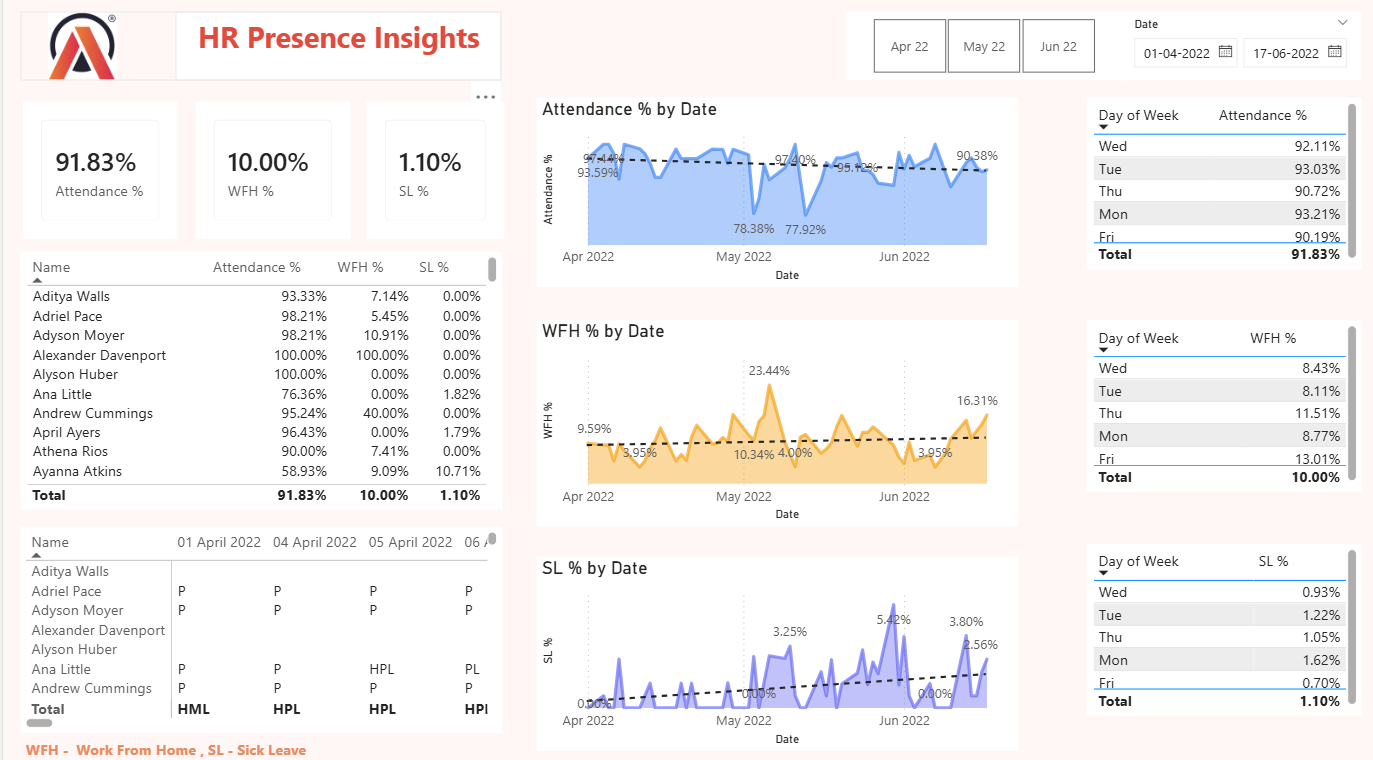

The dashboard page shown, as its layout file describes it:
{"tool":"powerbi","page":{"name":"Page 1","canvas":[1280,720],"ordinal":0},"visuals":[{"type":"slicer","fields":{"Values":["Final Data.Month"]},"box":[784,16,256,64],"z":0,"group":"g4"},{"type":"tableEx","fields":{"Values":["Final Data.Day of Week","Measures (2).Presence %"]},"box":[1008,96,256,160],"z":0},{"type":"cardVisual","fields":{"Data":["Measures (2).Presence %"]},"box":[18.1,100.5,144,128],"z":0,"group":"g2"},{"type":"slicer","fields":{"Values":["Final Data.Date"]},"box":[1040,16,224,64],"z":1000,"group":"g4"},{"type":"tableEx","fields":{"Values":["Final Data.Day of Week","Measures (2).WFH %"]},"box":[1008,304,256,160],"z":1000},{"type":"group","id":"g1","title":"Group 1","box":[16,16,448,64],"z":2000},{"type":"cardVisual","fields":{"Data":["Measures (2).WFH %"]},"box":[178.1,100.5,144,128],"z":2000,"group":"g2"},{"type":"cardVisual","fields":{"Data":["Measures (2).SL %"]},"box":[338.1,100.5,128,128],"z":3000,"group":"g2"},{"type":"tableEx","fields":{"Values":["Final Data.Day of Week","Measures (2).SL %"]},"box":[1008,512,256,160],"z":3000},{"type":"tableEx","fields":{"Values":["Final Data.Name","Measures (2).Presence %","Measures (2).WFH %","Measures (2).SL %"]},"box":[16,240,448,240],"z":4000,"group":"g3"},{"type":"textbox","box":[16,688,448,32],"z":4000},{"type":"textbox","box":[160,16,304,64],"z":5000,"group":"g1"},{"type":"group","id":"g2","title":"Group 2","box":[18.1,100.5,448,128],"z":5000},{"type":"group","id":"g3","title":"Group 3","box":[16,240,448,448],"z":6000},{"type":"pivotTable","fields":{"Rows":["Final Data.Name"],"Values":["Min(Final Data.Value)"],"Columns":["Final Data.Date"]},"box":[16,496,448,192],"z":6000,"group":"g3"},{"type":"areaChart","fields":{"Category":["Final Data.Date"],"Y":["Measures (2).Presence %"]},"box":[496,96,448,176],"z":7000},{"type":"areaChart","fields":{"Category":["Final Data.Date"],"Y":["Measures (2).WFH %"]},"box":[496,304,448,192],"z":8000},{"type":"areaChart","fields":{"Category":["Final Data.Date"],"Y":["Measures (2).SL %"]},"box":[496,523.1,448,180.9],"z":9000},{"type":"group","id":"g4","title":"Group 4","box":[784,16,480,64],"z":10000},{"type":"image","box":[16,16,116.1,64],"z":14000,"group":"g1"}]}

Visuals, with their boxes in screenshot pixels (x1, y1, x2, y2), scaled from the page's 1280x720 canvas onto the 1373x760 screenshot:
slicer - Final Data.Month: x1=841 y1=17 x2=1116 y2=84
tableEx - Final Data.Day of Week x Measures (2).Presence %: x1=1081 y1=101 x2=1356 y2=270
cardVisual - Measures (2).Presence %: x1=19 y1=106 x2=174 y2=241
slicer - Final Data.Date: x1=1116 y1=17 x2=1356 y2=84
tableEx - Final Data.Day of Week x Measures (2).WFH %: x1=1081 y1=321 x2=1356 y2=490
"Group 1" group: x1=17 y1=17 x2=498 y2=84
cardVisual - Measures (2).WFH %: x1=191 y1=106 x2=346 y2=241
cardVisual - Measures (2).SL %: x1=363 y1=106 x2=500 y2=241
tableEx - Final Data.Day of Week x Measures (2).SL %: x1=1081 y1=540 x2=1356 y2=709
tableEx - Final Data.Name x Measures (2).Presence %: x1=17 y1=253 x2=498 y2=507
textbox: x1=17 y1=726 x2=498 y2=759
textbox: x1=172 y1=17 x2=498 y2=84
"Group 2" group: x1=19 y1=106 x2=500 y2=241
"Group 3" group: x1=17 y1=253 x2=498 y2=726
pivotTable - Final Data.Name x Min(Final Data.Value): x1=17 y1=524 x2=498 y2=726
areaChart - Final Data.Date x Measures (2).Presence %: x1=532 y1=101 x2=1013 y2=287
areaChart - Final Data.Date x Measures (2).WFH %: x1=532 y1=321 x2=1013 y2=524
areaChart - Final Data.Date x Measures (2).SL %: x1=532 y1=552 x2=1013 y2=743
"Group 4" group: x1=841 y1=17 x2=1356 y2=84
image: x1=17 y1=17 x2=142 y2=84
